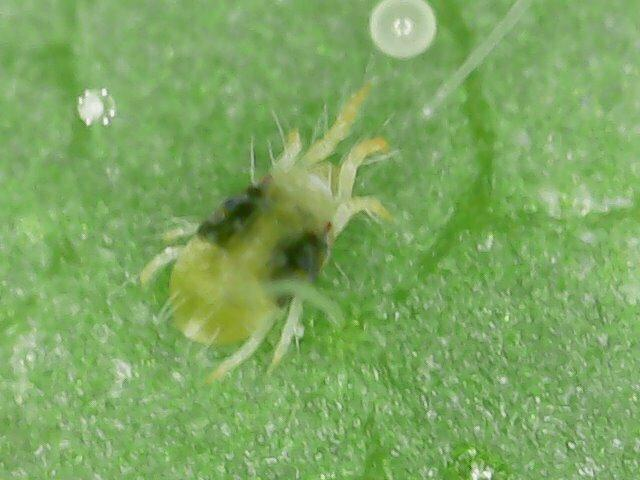tiny_pests: (43, 50, 507, 435)
